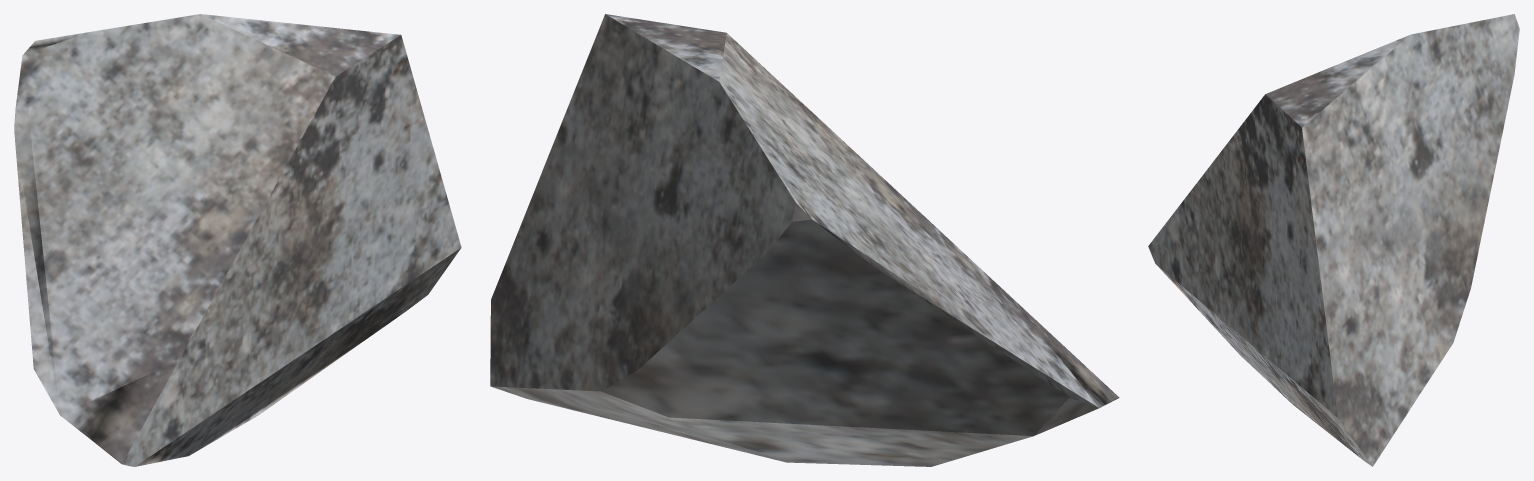
File: Asteroid_Medium_001_02_005_03_006.fbx
The picture shows the model from 3 angles, left to right: view 1: azimuth 30°, elevation 25°; view 2: azimuth 150°, elevation 25°; view 3: azimuth 270°, elevation 25°; orthographic projection. The views are drawn at different scales.
Parts seen in each view (by area): view 1: Asteroid_Medium_001_02_005_03_006; view 2: Asteroid_Medium_001_02_005_03_006; view 3: Asteroid_Medium_001_02_005_03_006.
Boxes of the visible parts, x1,y1,x2,y2 form: Asteroid_Medium_001_02_005_03_006: (14, 14, 461, 466); Asteroid_Medium_001_02_005_03_006: (490, 14, 1119, 466); Asteroid_Medium_001_02_005_03_006: (1148, 14, 1519, 466).
Bounding box in the file's own units: 7.85 × 5.93 × 5.4.
